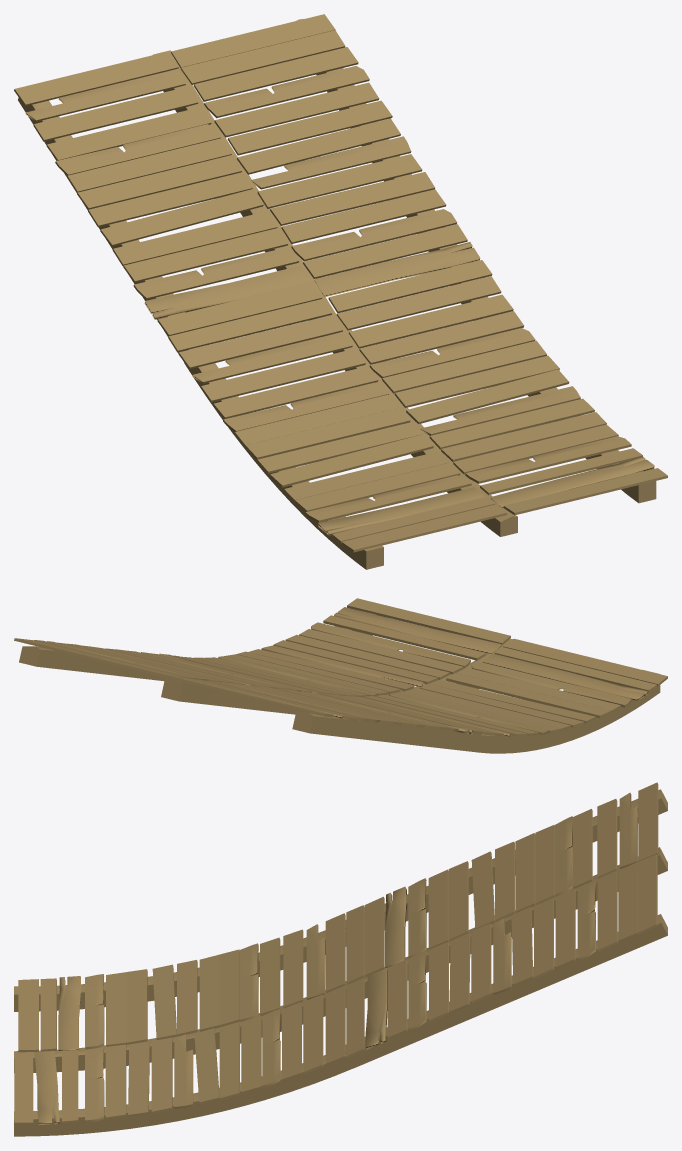
File: Road_Beam_Double_03.fbx
The picture shows the model from 3 angles, top to bottom: view 1: azimuth 30°, elevation 25°; view 2: azimuth 150°, elevation 25°; view 3: azimuth 270°, elevation 25°; orthographic projection. The views are drawn at different scales.
Visible parts, largest first — view 1: Road_Beam_Double_03; view 2: Road_Beam_Double_03; view 3: Road_Beam_Double_03.
Part boxes in pixels (<box>): Road_Beam_Double_03: <box>14,14,667,569</box>; Road_Beam_Double_03: <box>14,598,667,753</box>; Road_Beam_Double_03: <box>14,782,667,1136</box>.
Size of the model in its own units: 297 by 207 by 565.
